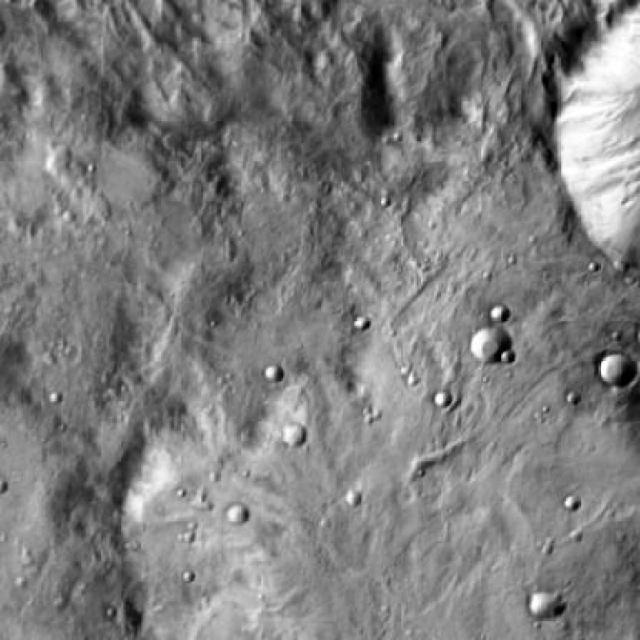crater: (547, 0, 640, 267), (472, 326, 513, 362), (598, 352, 638, 388), (528, 590, 562, 622), (280, 426, 305, 448), (227, 504, 248, 524), (488, 302, 508, 320), (264, 366, 282, 382), (435, 392, 453, 408)
